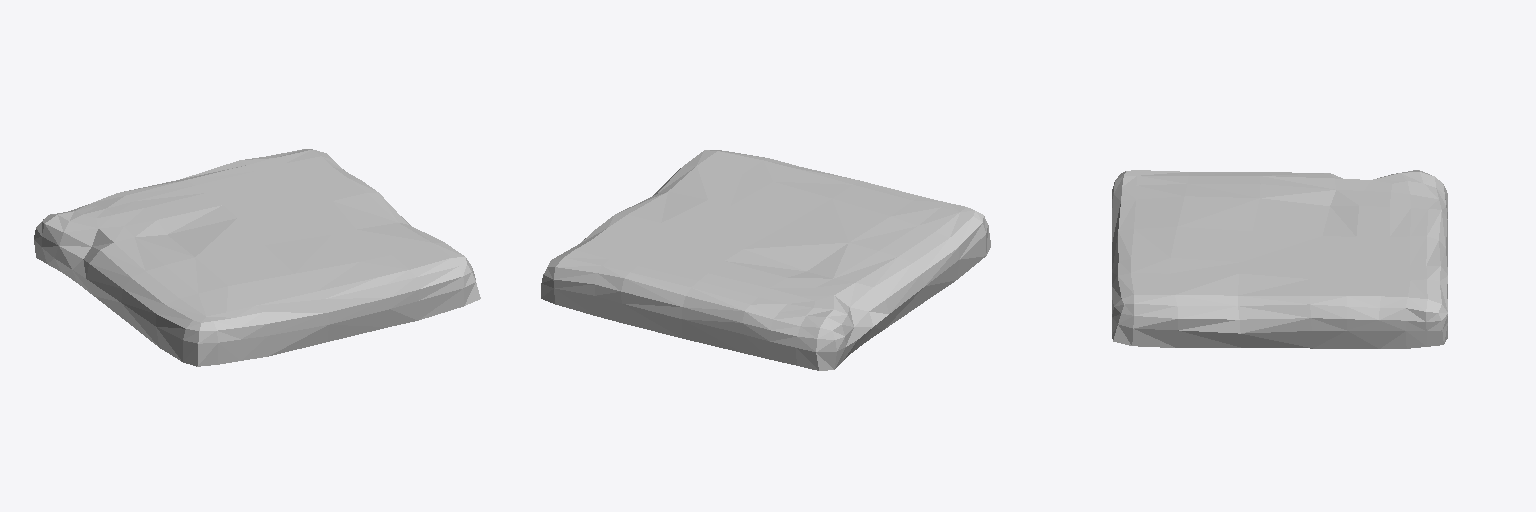
Rendered from Tile4.obj.
The picture shows the model from 3 angles: view 1: azimuth 30°, elevation 25°; view 2: azimuth 150°, elevation 25°; view 3: azimuth 270°, elevation 25°; orthographic projection.
Visible parts, largest first — view 1: SM_Tile4_LP; view 2: SM_Tile4_LP; view 3: SM_Tile4_LP.
Boxes of the visible parts, box(x1,y1,x2,y2) form: SM_Tile4_LP: box(34, 149, 480, 366); SM_Tile4_LP: box(541, 150, 990, 370); SM_Tile4_LP: box(1112, 170, 1447, 348).
Size of the model in its own units: 156 by 23.85 by 156.